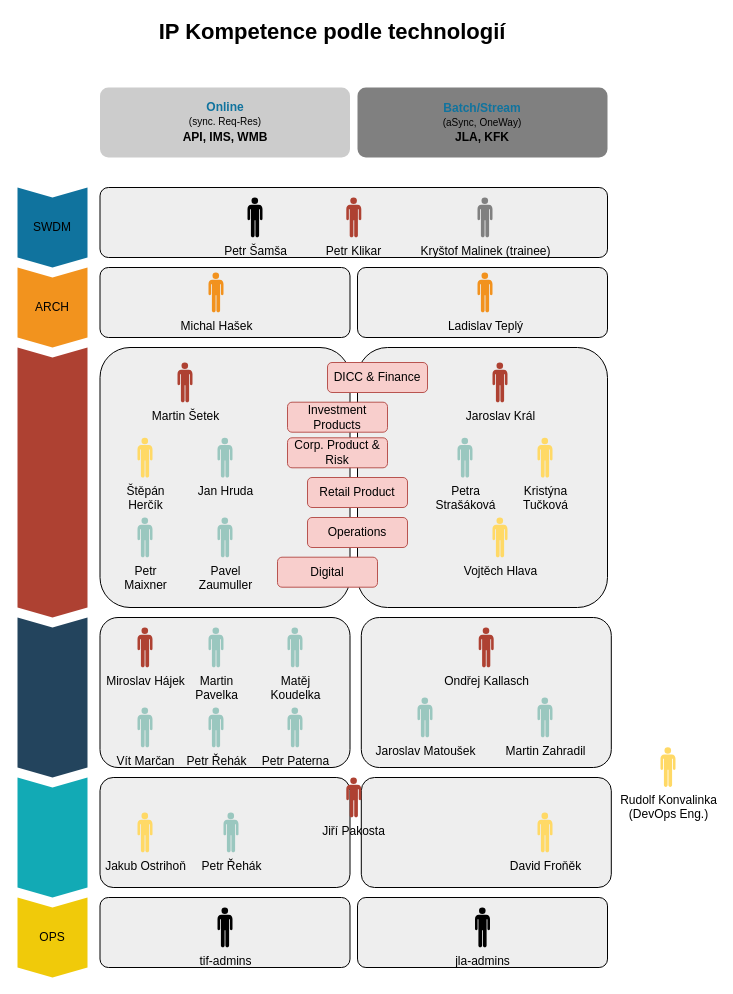
This 733x994 diagram has some shape labels left out. Here are the shapes that lost their labels. From the top down, the box of each, then its label:
(17, 347, 87, 617): AN
(17, 617, 87, 777): DEV
(17, 777, 87, 897): TEST
